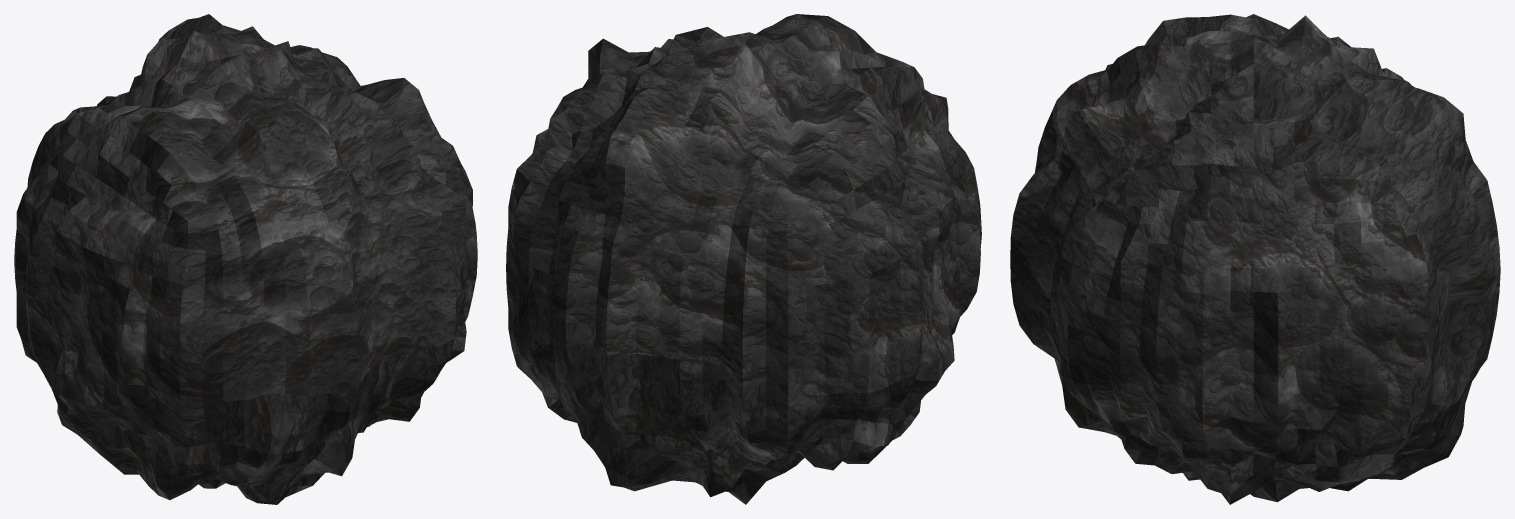
File: asteroid134.obj
3 views of the same model, side by side, from view 1: azimuth 30°, elevation 25°; view 2: azimuth 150°, elevation 25°; view 3: azimuth 270°, elevation 25° (orthographic). The views are drawn at different scales.
Parts seen in each view (by area): view 1: Cube_Cube.002; view 2: Cube_Cube.002; view 3: Cube_Cube.002.
Part boxes in pixels (x1,y1,x2,y2): Cube_Cube.002: [14, 14, 477, 504]; Cube_Cube.002: [506, 14, 981, 504]; Cube_Cube.002: [1010, 14, 1500, 504].
Size of the model in its own units: 1.76 by 1.89 by 1.8.
